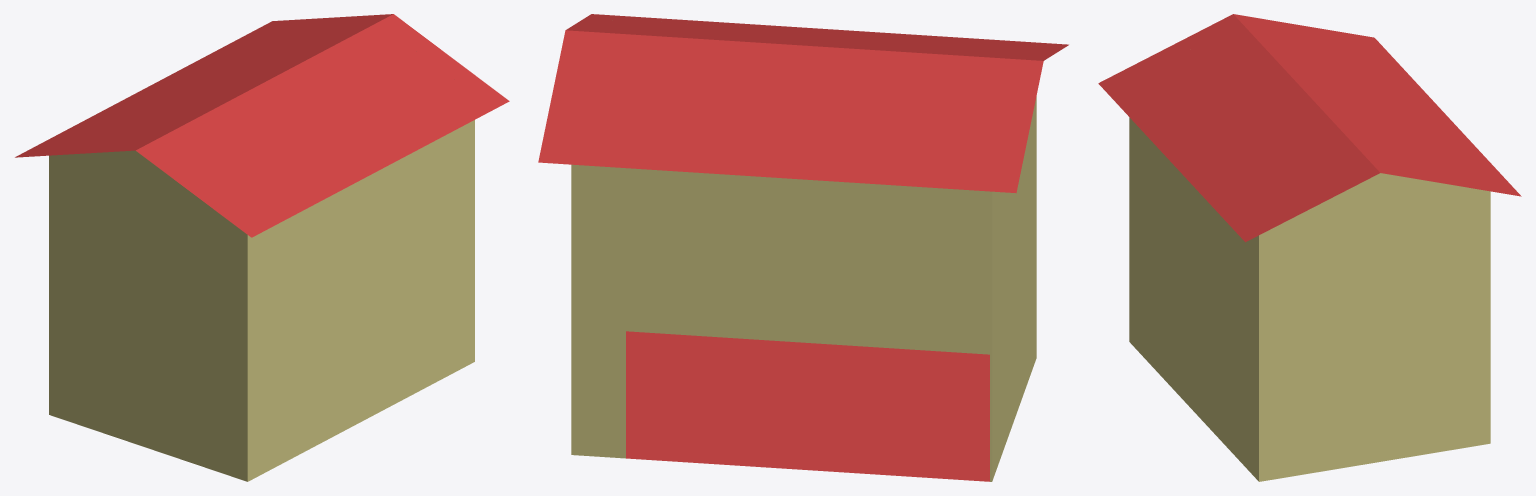
3 renders of one model, left to right at view 1: azimuth 30°, elevation 25°; view 2: azimuth 150°, elevation 25°; view 3: azimuth 270°, elevation 25°, orthographic. The views are drawn at different scales.
Bounding box in the file's own units: 15.02 × 13.13 × 10.26.
